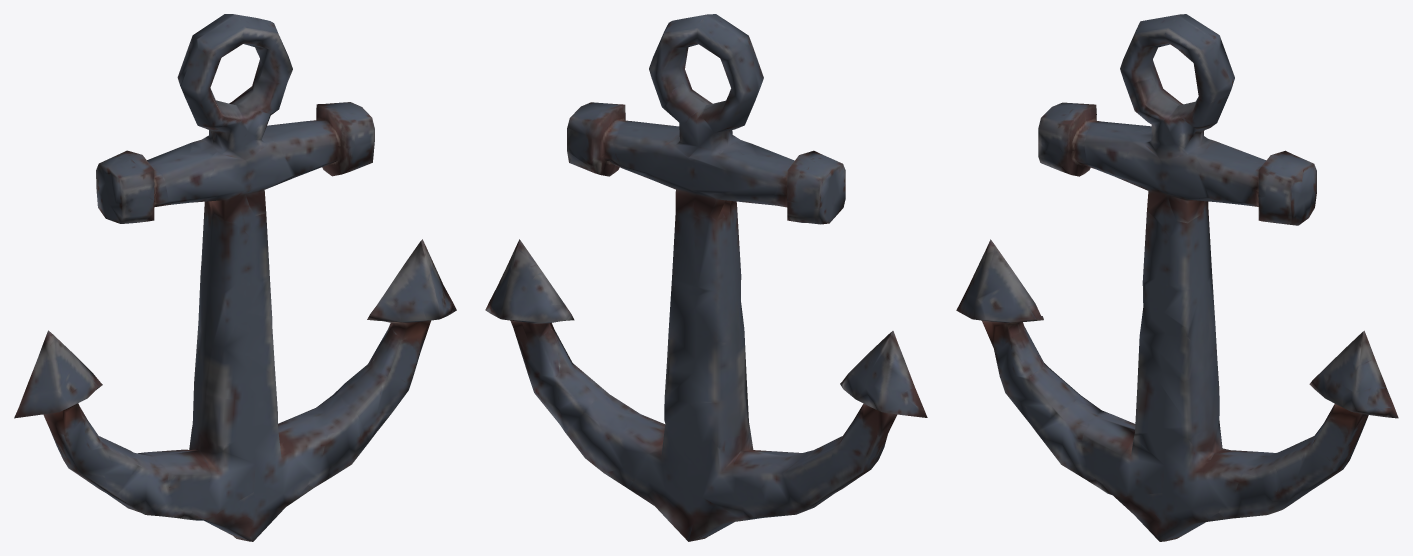
Rendered from ancla.glb.
The picture shows the model from 3 angles, left to right: view 1: azimuth 30°, elevation 25°; view 2: azimuth 150°, elevation 25°; view 3: azimuth 330°, elevation 25°; orthographic projection.
Size of the model in its own units: 1.68 by 1.9 by 0.2345.
Materials: 1 (1 with a texture image).
